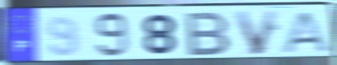8: (142, 13, 179, 56)
9: (93, 11, 131, 60), (45, 15, 81, 58)
A: (278, 10, 334, 53)
B: (186, 10, 233, 58)
V: (232, 9, 281, 57)
